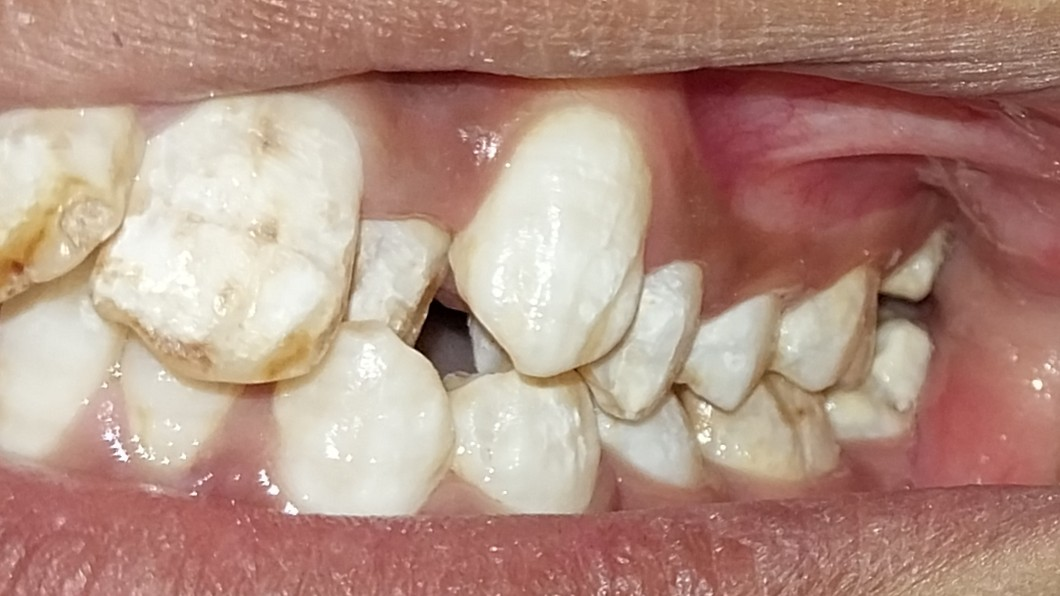D: (0, 89, 140, 332)
